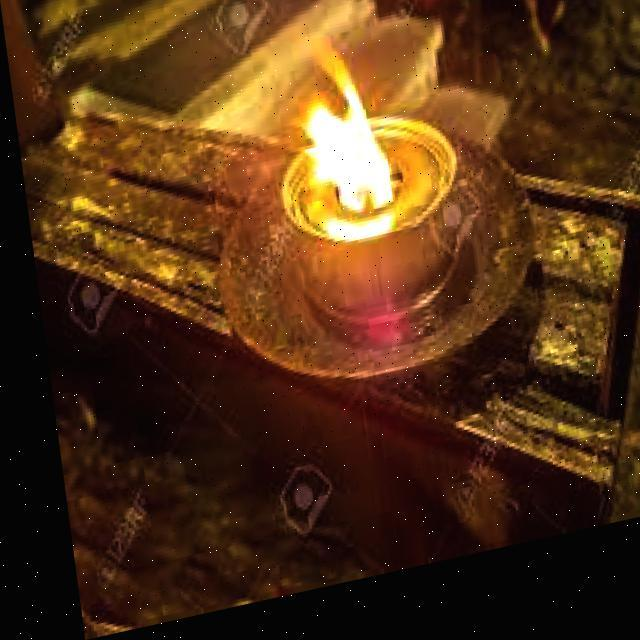Fire: (288, 87, 397, 246)
